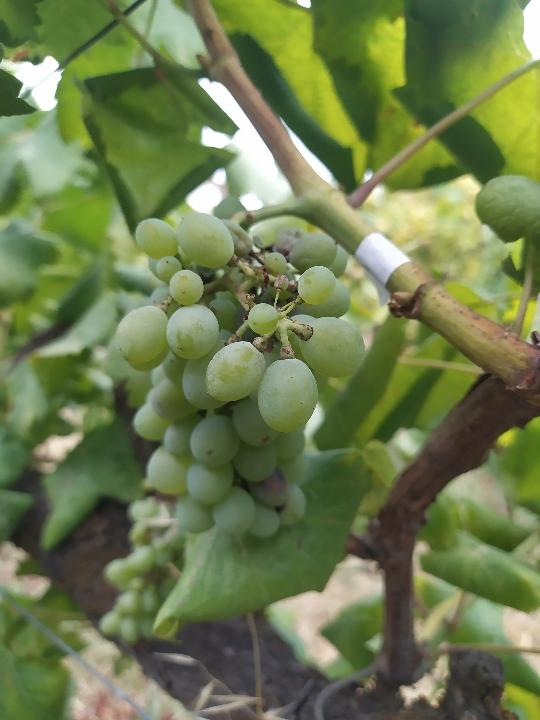grape: (108, 206, 370, 539)
